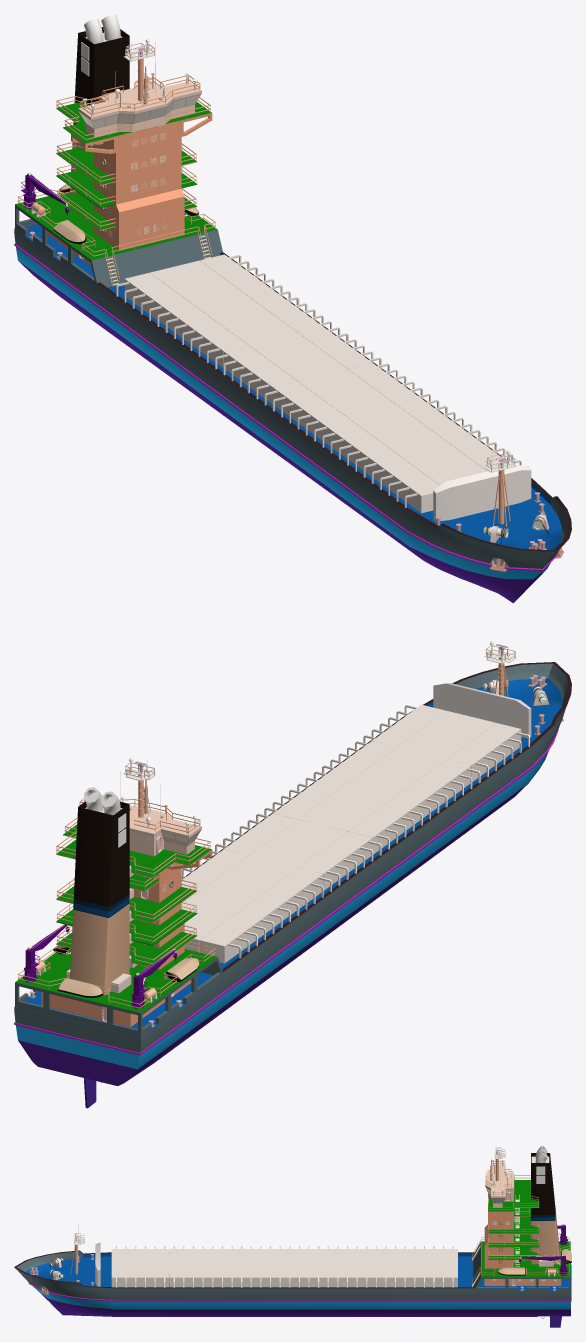
The model's file is vessel.glb.
3 renders of one model, top to bottom at view 1: azimuth 30°, elevation 25°; view 2: azimuth 150°, elevation 25°; view 3: azimuth 270°, elevation 25°, orthographic. The views are drawn at different scales.
Parts seen in each view (by area): view 1: Container_Ship; view 2: Container_Ship, Boat_004; view 3: Container_Ship, Crane_001.
Part boxes in pixels (x1,y1,x2,y2): Container_Ship: [14, 14, 571, 603]; Container_Ship: [14, 641, 571, 1085]; Boat_004: [57, 978, 103, 997]; Container_Ship: [14, 1145, 571, 1316]; Crane_001: [519, 1254, 565, 1268].
Size of the model in its own units: 1666 by 3996 by 10761.
1 material, 1 textured.
